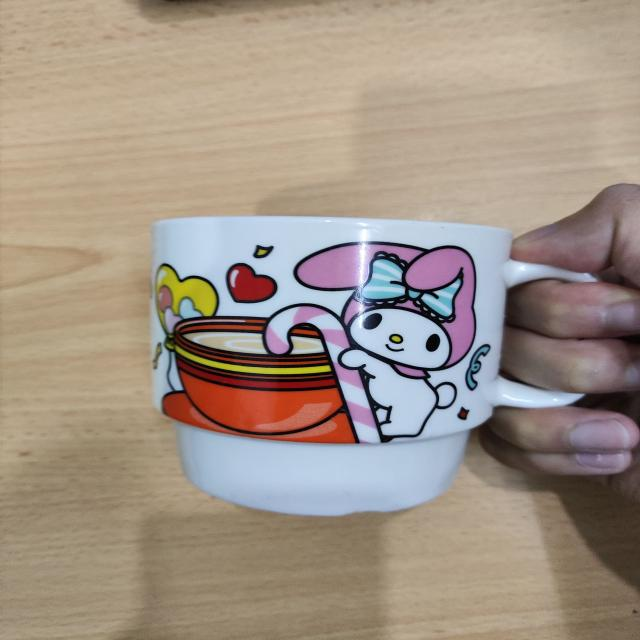cup: (136, 179, 606, 534)
